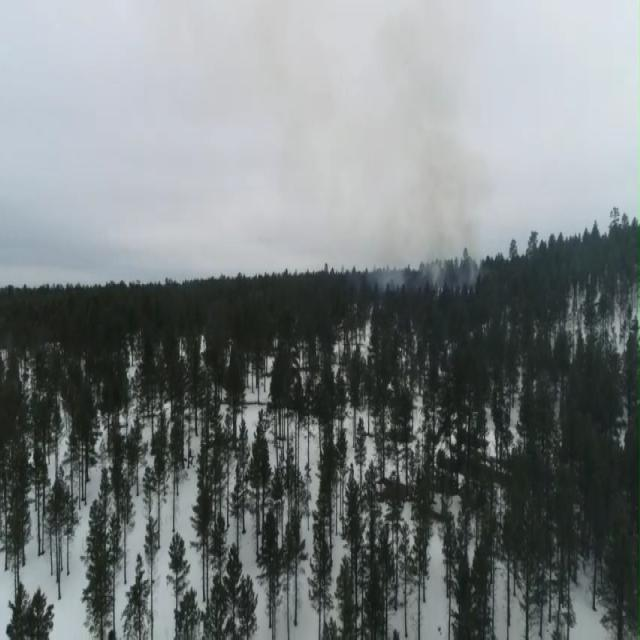Smoke: (380, 150, 480, 290)
